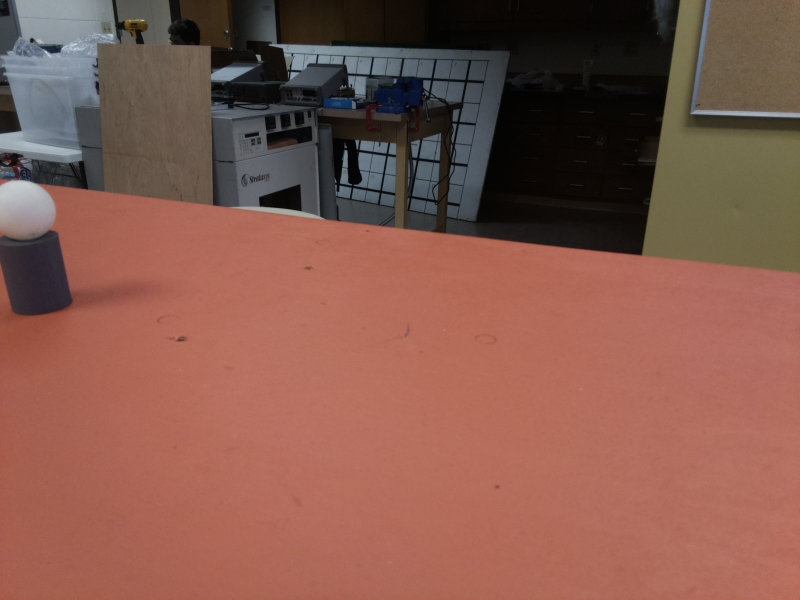obstacle: (1, 177, 67, 320)
